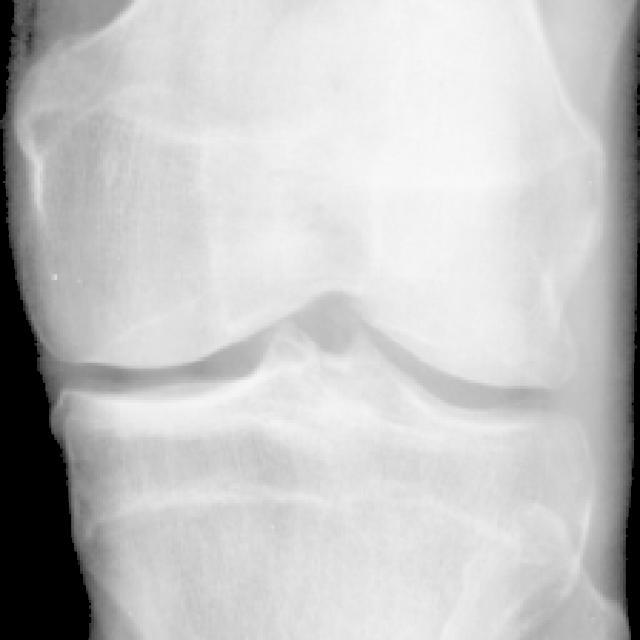femur: (20, 1, 600, 386)
tibia: (63, 323, 589, 637)
